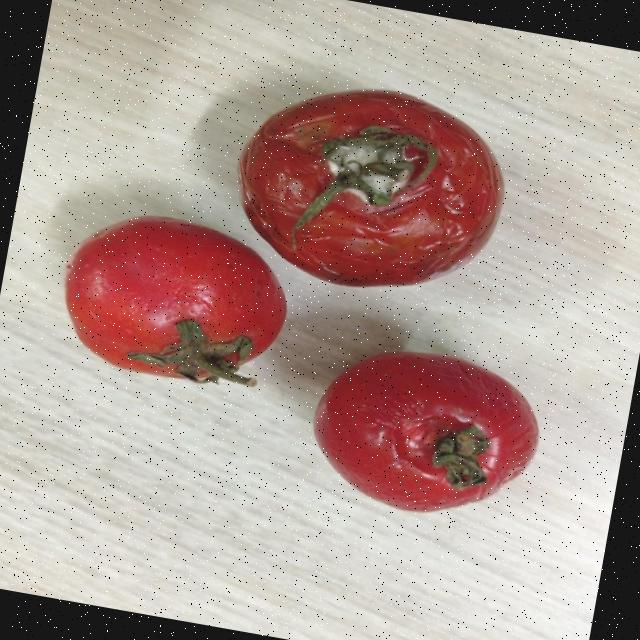Rotten: (220, 64, 518, 313)
overripe: (304, 337, 550, 530)
